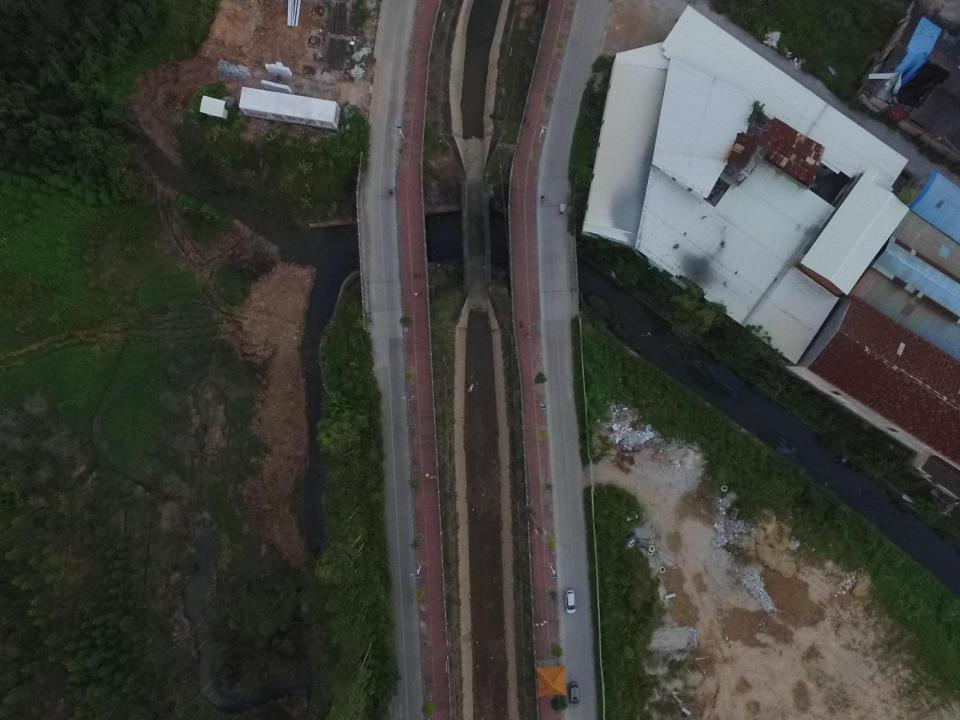car: (562, 588, 576, 614), (569, 682, 580, 706)
